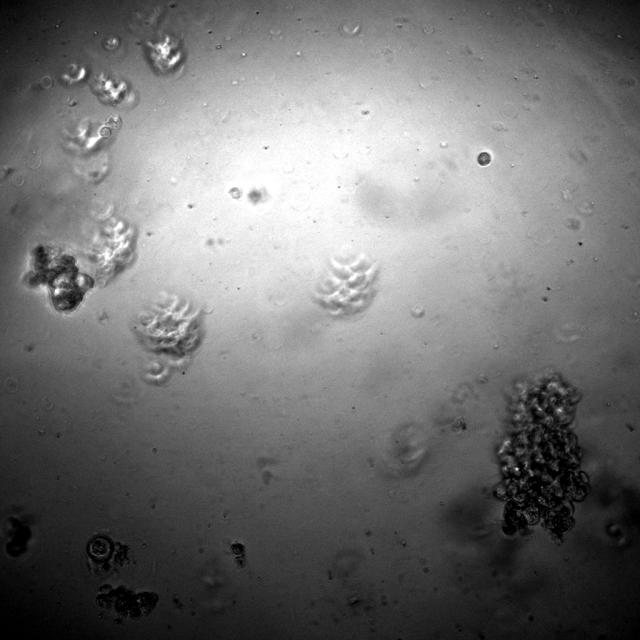organoid: (494, 372, 589, 541), (132, 294, 202, 385), (84, 197, 137, 287), (25, 245, 93, 312), (316, 251, 376, 317), (61, 113, 121, 157), (95, 584, 158, 624), (142, 29, 187, 75), (86, 532, 131, 577), (88, 71, 137, 110), (58, 63, 89, 85), (229, 541, 245, 567), (31, 75, 52, 93), (102, 34, 120, 51), (248, 188, 266, 204), (478, 152, 490, 166), (229, 187, 241, 199)
